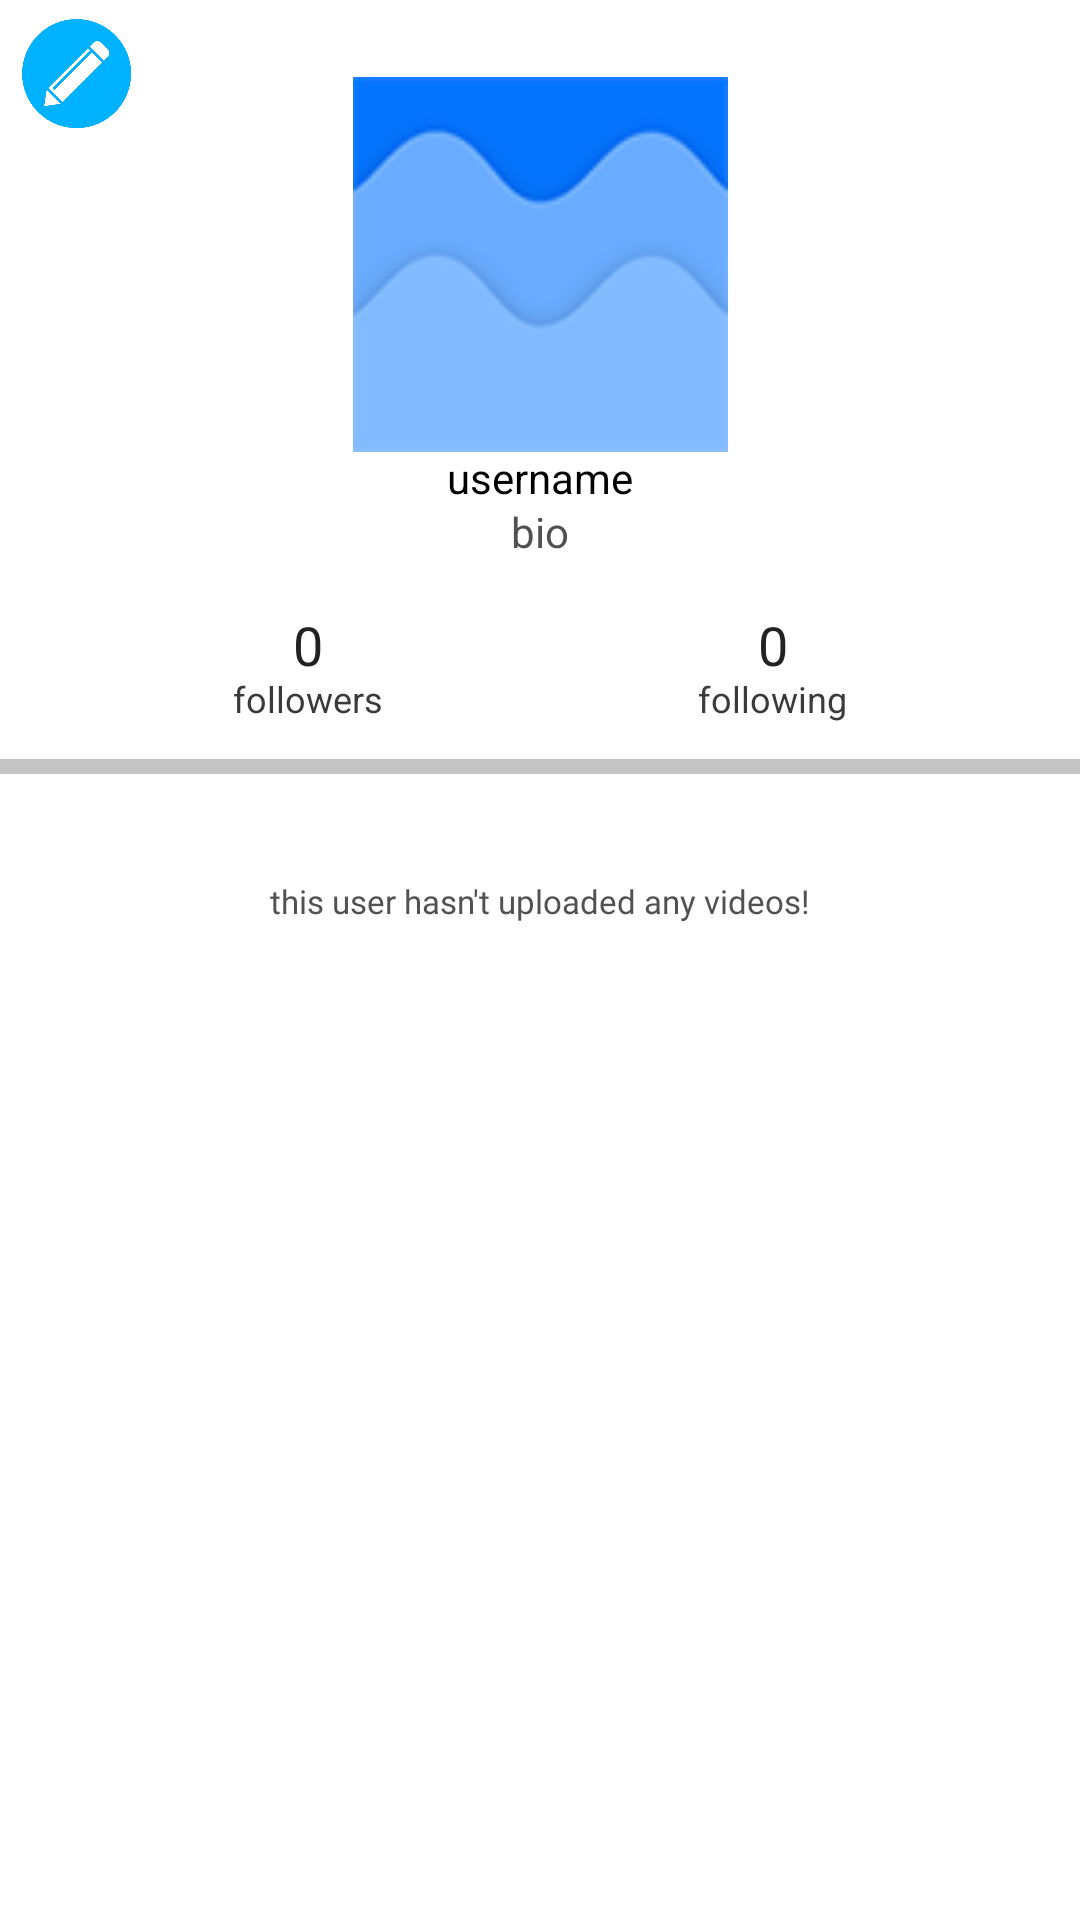

Screen size 1080 × 1920. Icon name, then its center in pixels as (x=x, y=y):
editprofile: (x=76, y=73)
